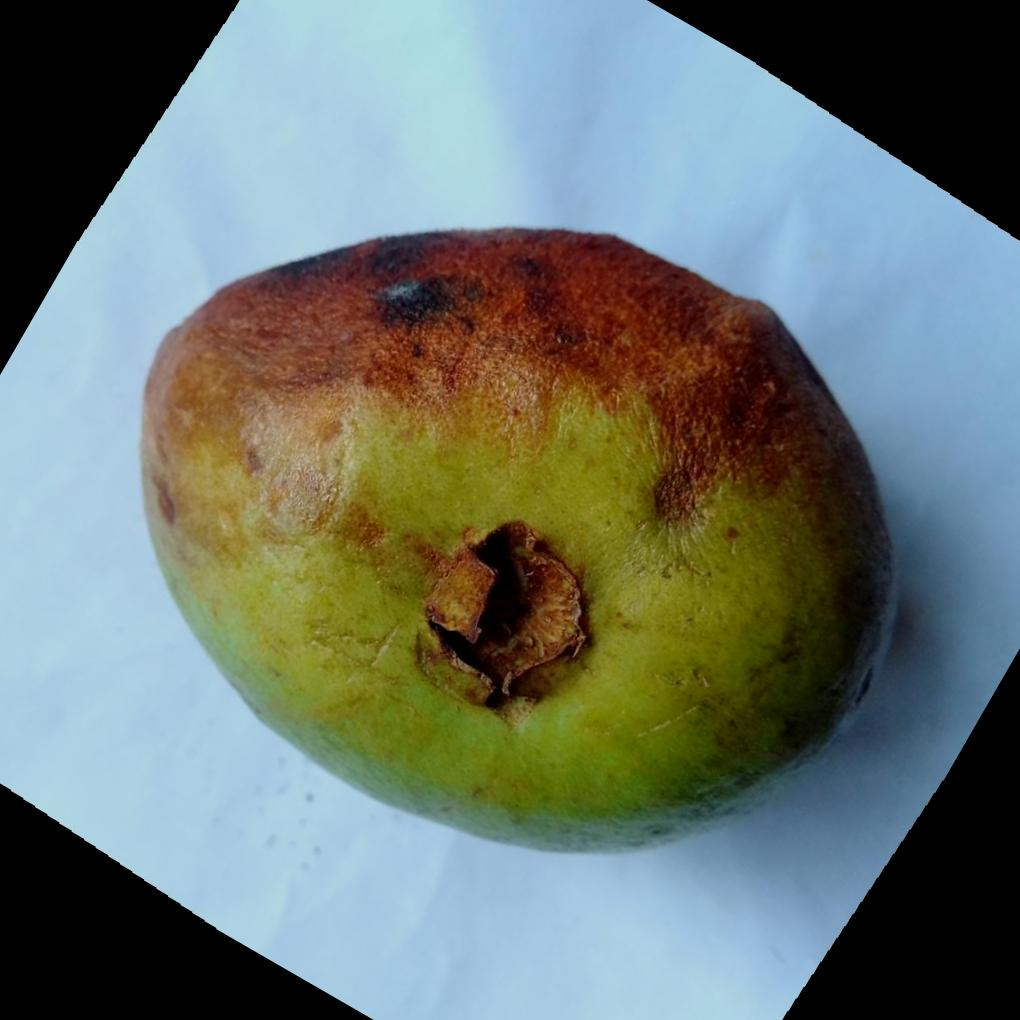FreshOrange: (138, 229, 888, 849)
